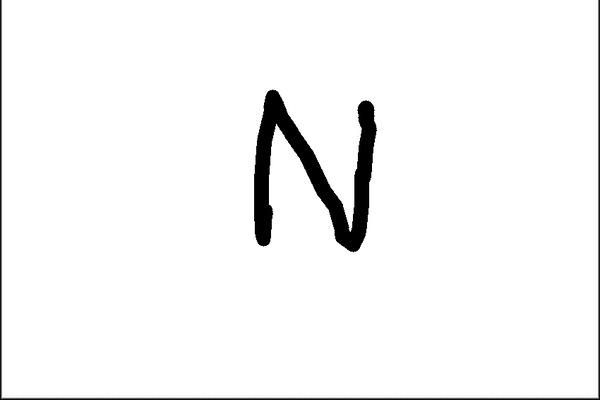N: (248, 80, 380, 258)
